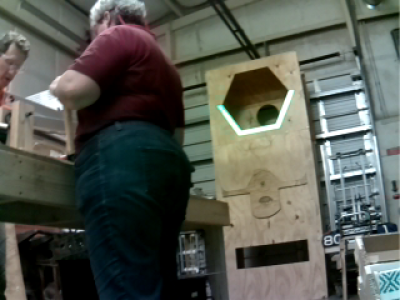target: (216, 90, 295, 136)
